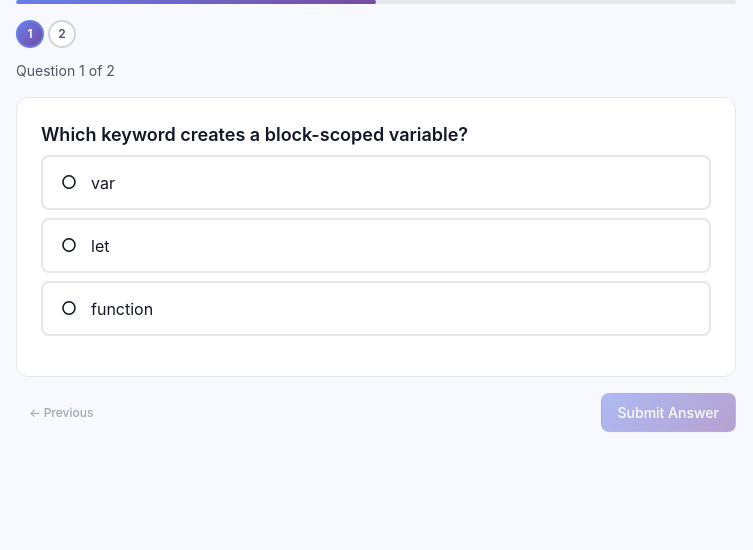
it: QuizPanel › navigates to next question on "Next Question" click
Click the button "○ let".
click(69, 246)  # box [41, 218, 711, 273]
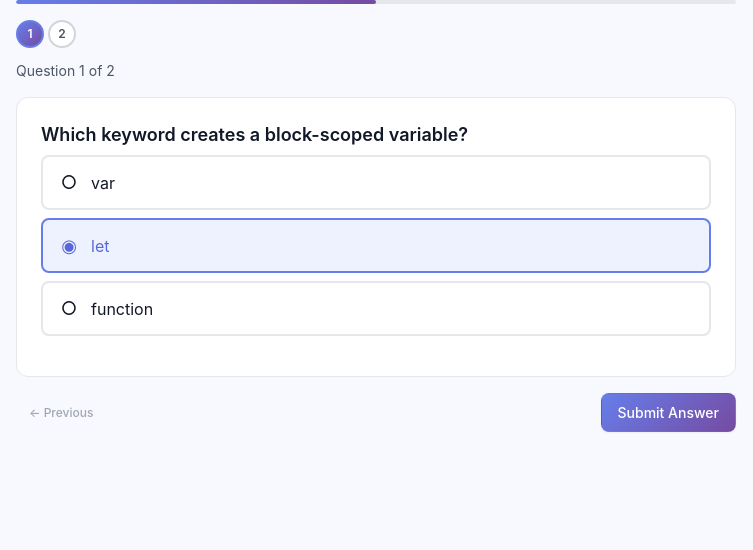
Click the button "Submit Answer".
click(668, 413)  # box [600, 393, 736, 432]
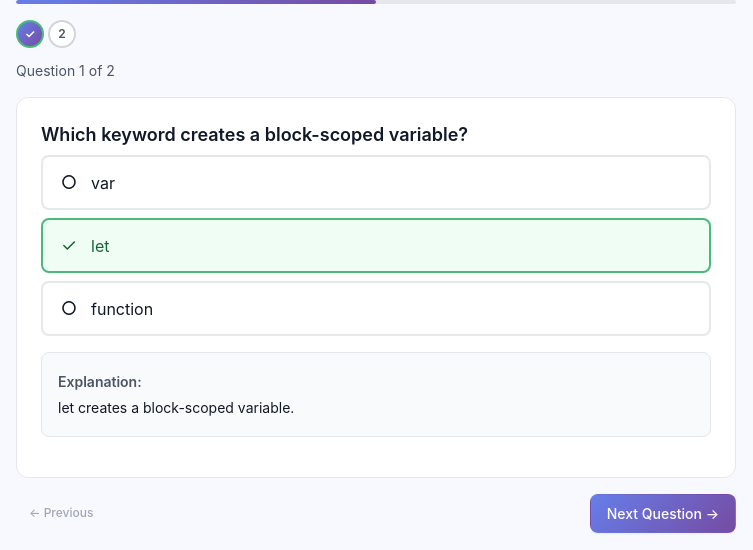
Click the button "Next Question →".
click(663, 513)  # box [590, 494, 736, 533]
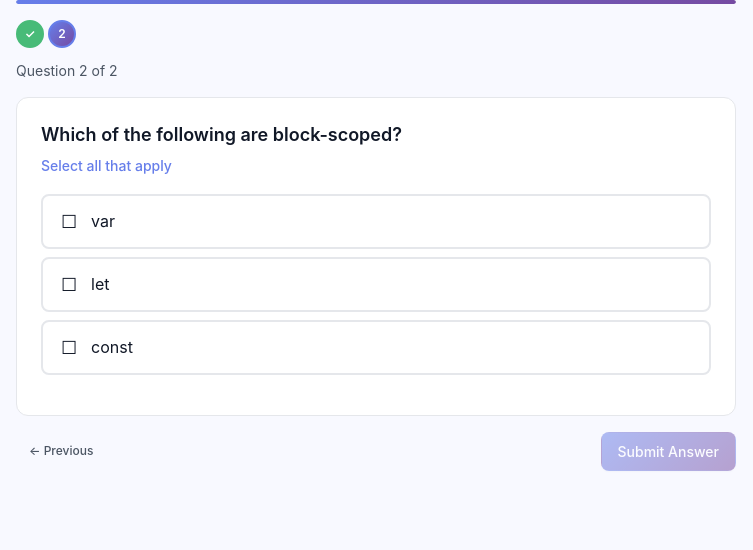
Expected: the text "Question 2 of 2" is shown, [16, 62, 118, 79]
Expected: the heading "Which of the following are block-scoped?" is shown, [41, 124, 402, 145]
